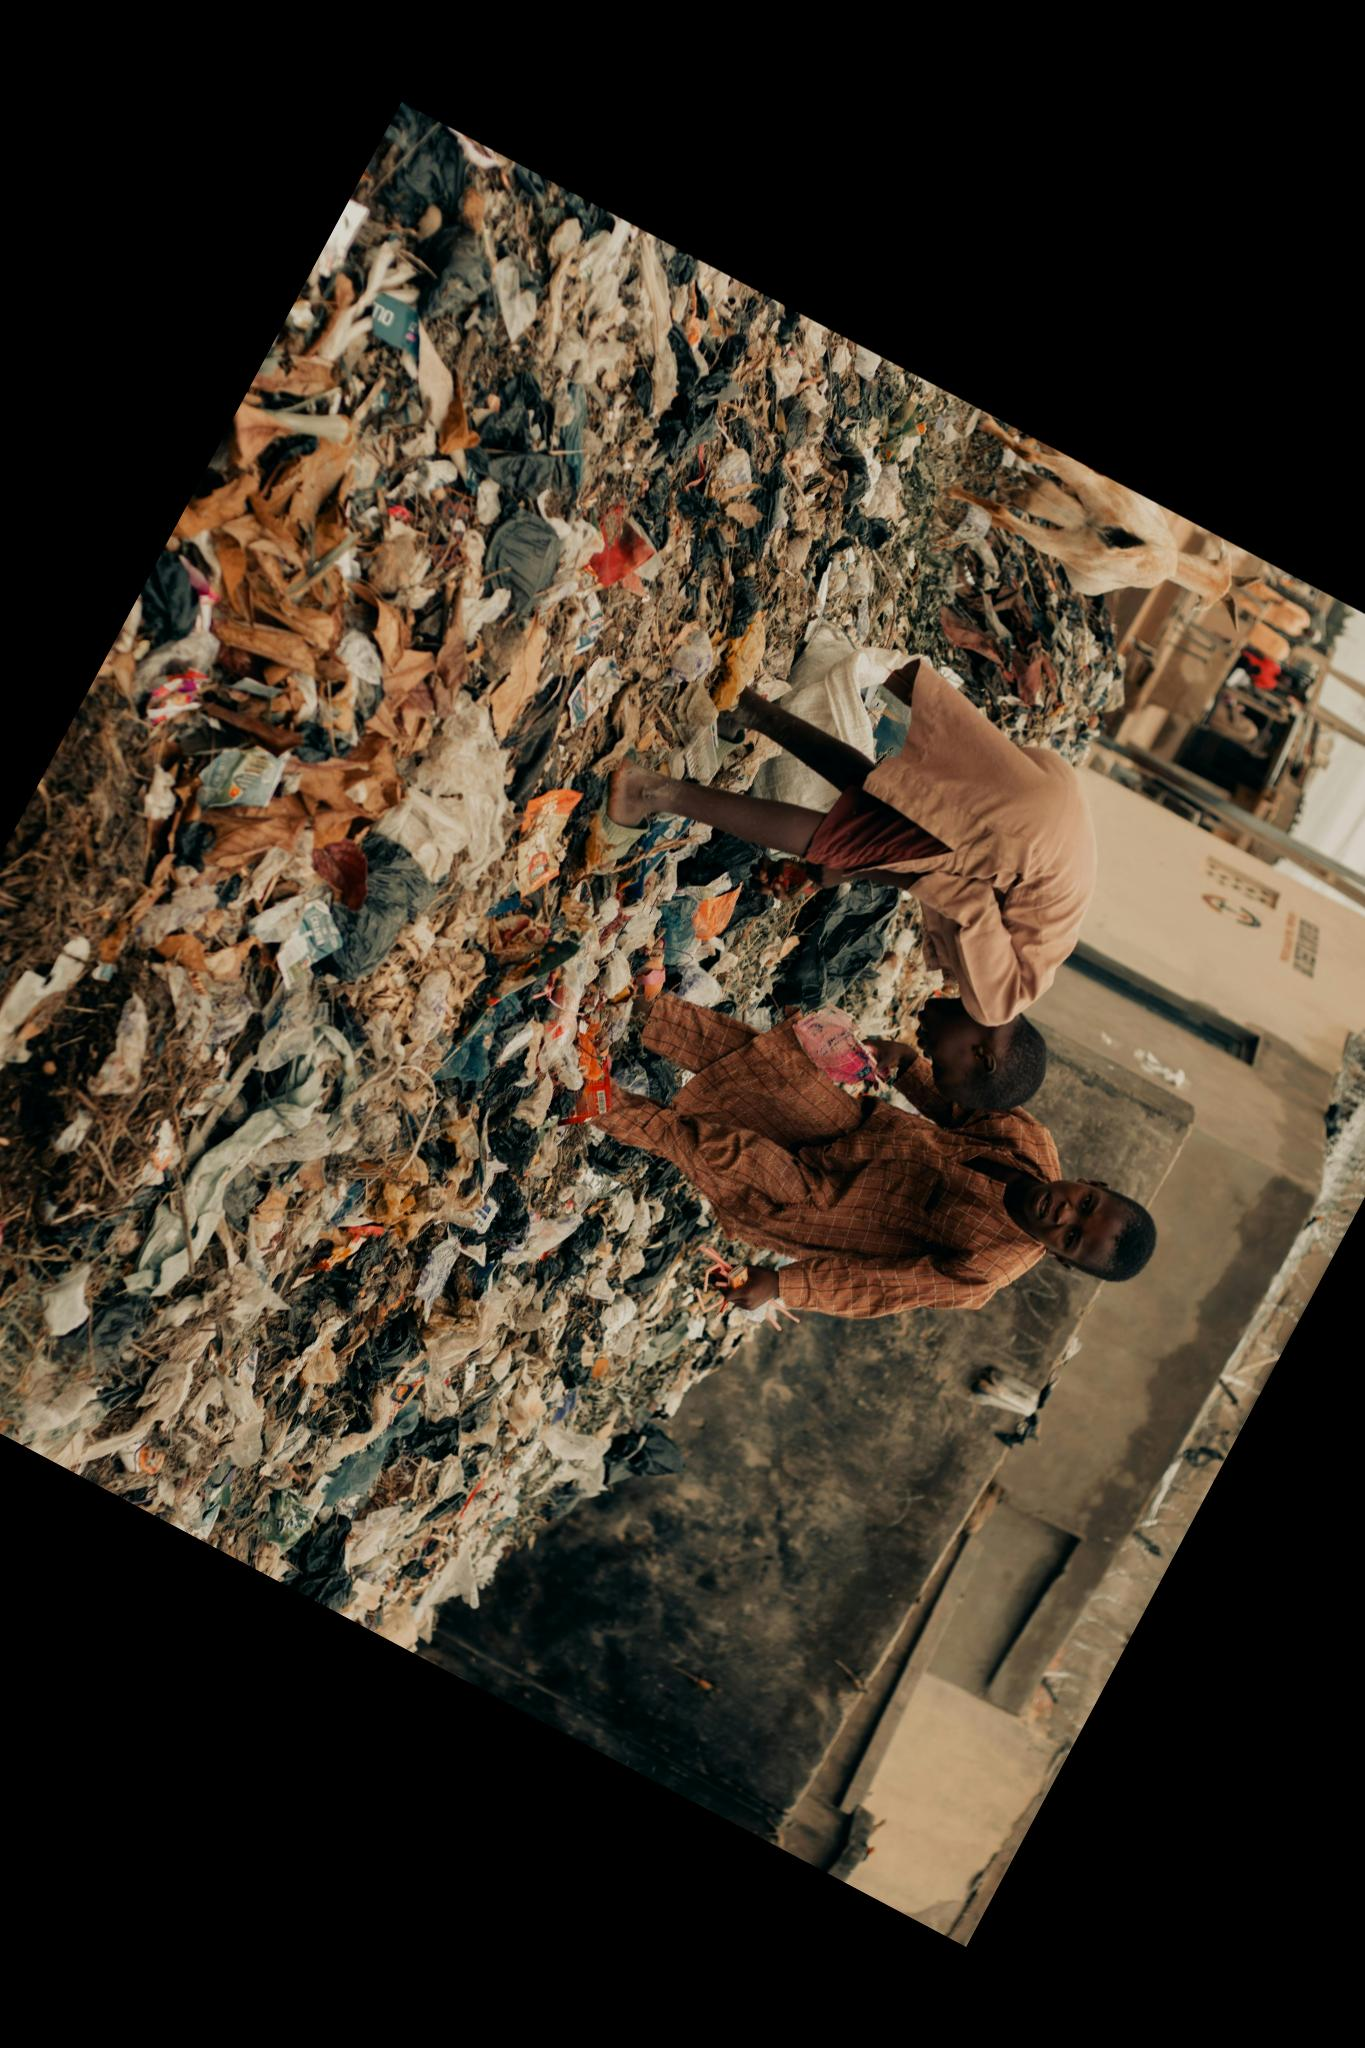Trash: (0, 107, 1200, 1731)
